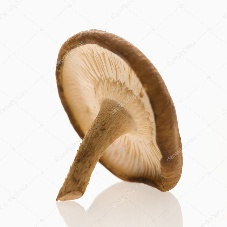mushroom: (53, 28, 187, 209)
